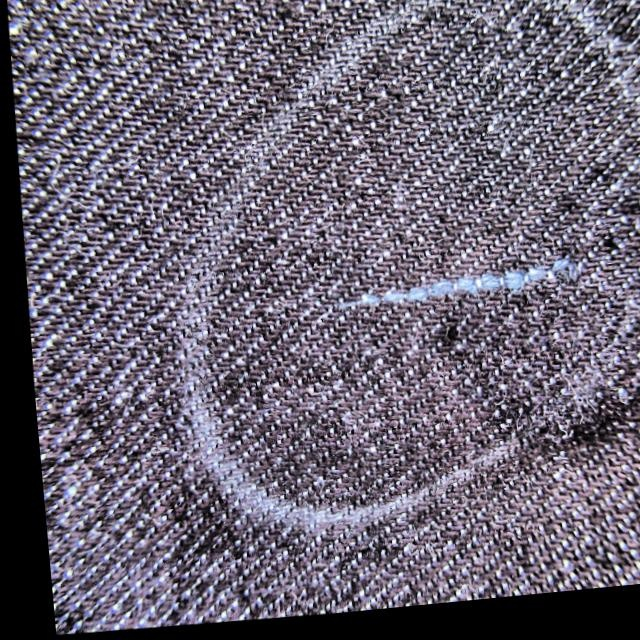Hole: (339, 253, 576, 324), (345, 262, 575, 312)
